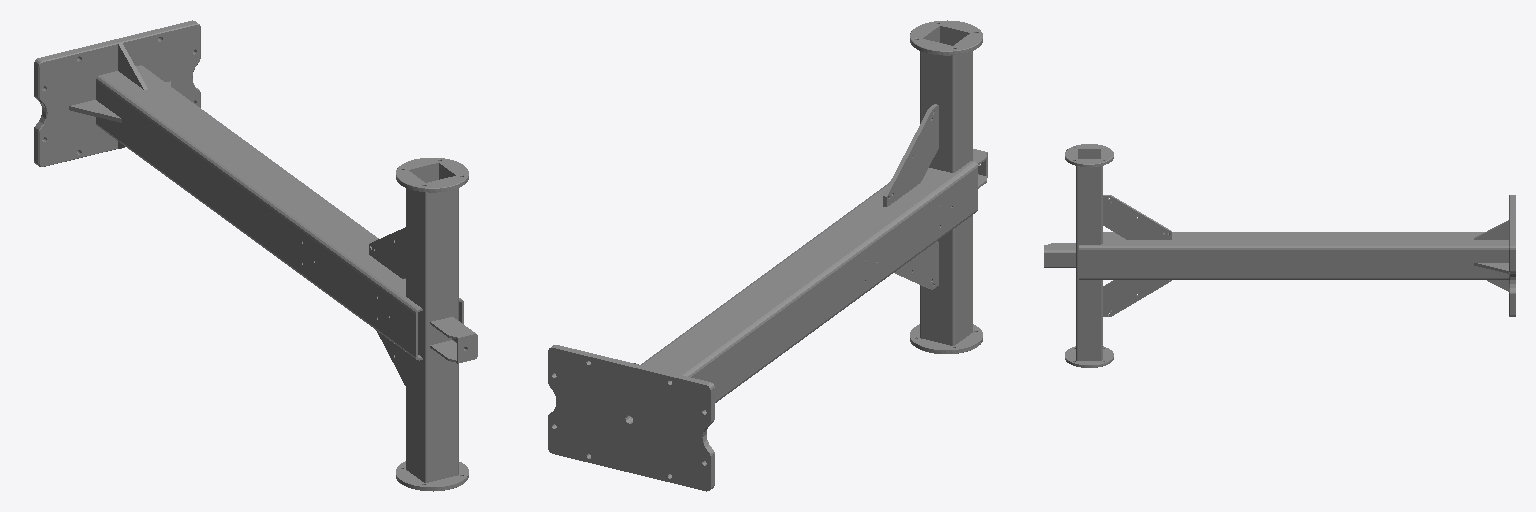
robot.urdf — dual_base:
<?xml version="1.0" encoding="utf-8"?>
<!-- This URDF was automatically created by SolidWorks to URDF Exporter! Originally created by [author] ([email redacted]) 
     Commit Version: 1.5.1-0-g916b5db  Build Version: 1.5.7152.31018
     For more information, please see http://wiki.ros.org/sw_urdf_exporter -->
<robot
  name="dual_base">
  <link
    name="dual_base">
    <inertial>
      <origin
        xyz="0 0 0"
        rpy="0 0 0" />
      <mass
        value="10" />
      <inertia
        ixx="2.2558"
        ixy="0.00058059"
        ixz="4.04440355497102E-14"
        iyy="0.1341"
        iyz="-2.35010066240058E-16"
        izz="2.1888" />
    </inertial>
    <visual>
      <origin
        xyz="0 0 0"
        rpy="1.5707963267949 0 0" />
      <geometry>
        <mesh
          filename="package://dual_ur_ros/meshes/dual_base.STL" />
      </geometry>
      <material
        name="">
        <color
          rgba="0.6 0.6 0.6 1" />
        <texture
          filename="package://dual_ur_ros/textures/" />
      </material>
    </visual>
    <collision>
      <origin
        xyz="0 0 0"
        rpy="1.5707963267949 0 0" />
      <geometry>
        <mesh
          filename="package://dual_ur_ros/meshes/dual_base.STL" />
      </geometry>
    </collision>
  </link>
</robot>

--- What the picture shows (computed from the rendered views, not written in the file) ---
Views: 3 orthographic renders of the robot side by side, from view 1: azimuth 30°, elevation 25°; view 2: azimuth 150°, elevation 25°; view 3: azimuth 270°, elevation 25°.
Model dual_base with 1 links and 0 joints (none), rooted at dual_base, posed every joint at zero.
Visible links, largest first — view 1: dual_base; view 2: dual_base; view 3: dual_base.
Link boxes in pixels (x1,y1,x2,y2): dual_base: [34, 20, 477, 491]; dual_base: [548, 20, 987, 491]; dual_base: [1044, 144, 1515, 367].
Bounding box of the posed robot: 0.4 × 1.5 × 0.714 m (x, y, z).
1 mesh visuals loaded from 1 distinct referenced files (1 binary STL).